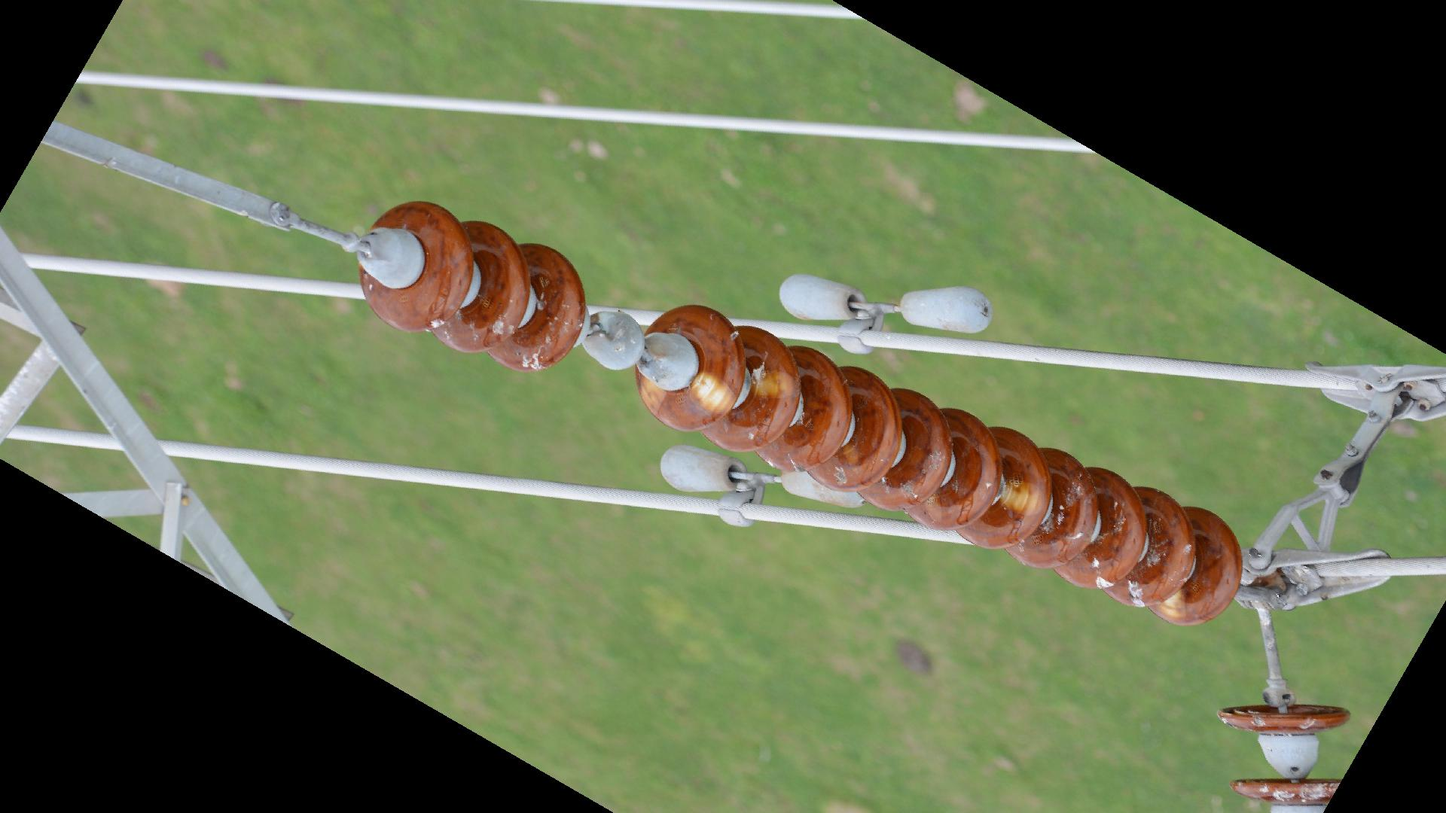insulator: (628, 298, 1248, 635), (352, 193, 592, 376), (1213, 693, 1356, 813)
insulator_flashover: (688, 370, 740, 419), (996, 477, 1049, 519), (747, 366, 798, 404), (1146, 586, 1189, 626), (636, 373, 667, 419)
